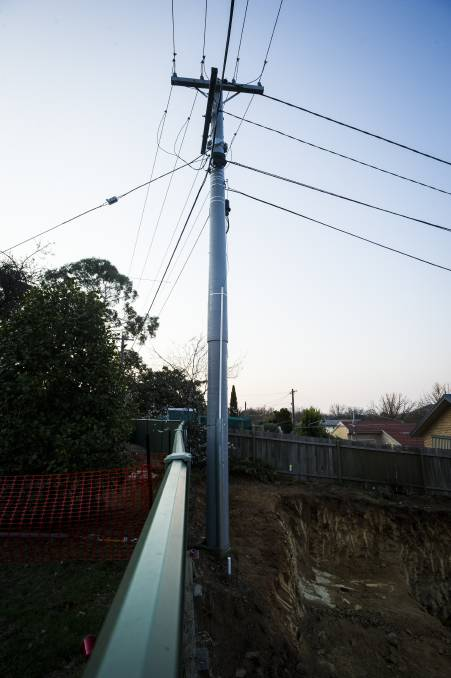utility_pole: (159, 50, 272, 196)
